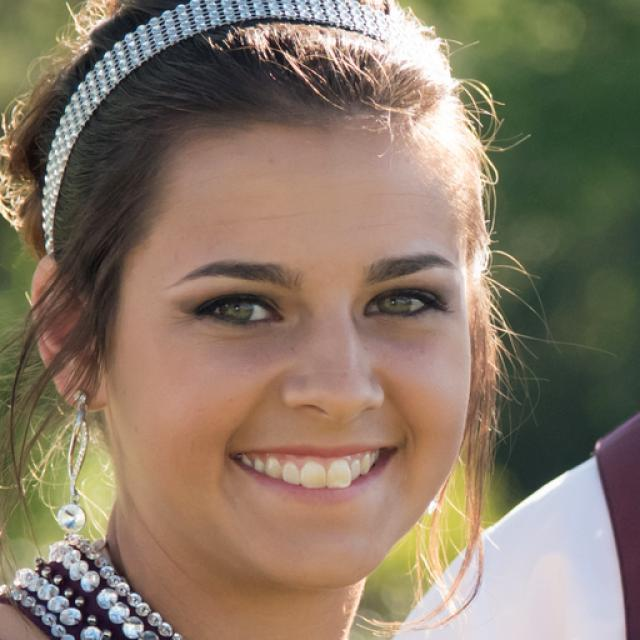happy: (110, 107, 479, 588)
